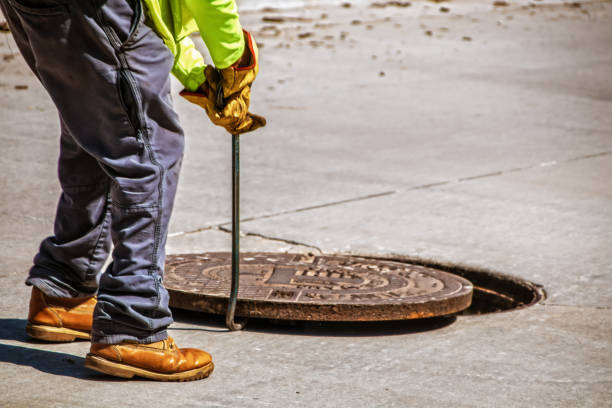open_manhole: (448, 258, 540, 321)
